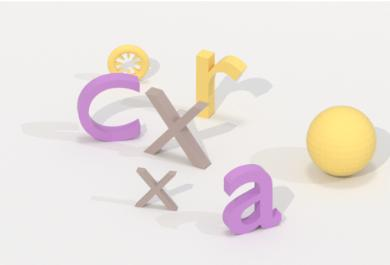0-Tron: (302, 102, 379, 181)
0-TronLo: (105, 43, 151, 85)
C: (75, 71, 144, 144)
X: (145, 86, 213, 171), (133, 164, 181, 214)
a: (221, 161, 283, 239)
r: (195, 46, 249, 120)
